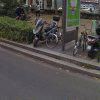Bicycle: (33, 12, 64, 55)
